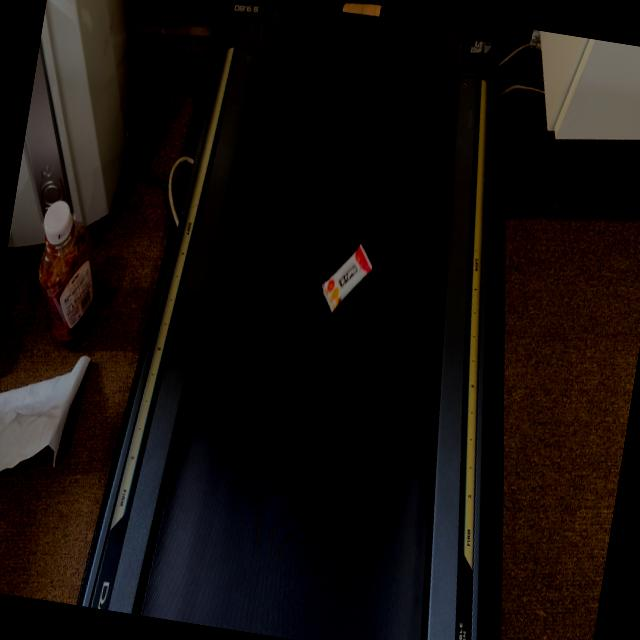Recycle: (340, 0, 385, 18)
Trash: (316, 238, 376, 322)
